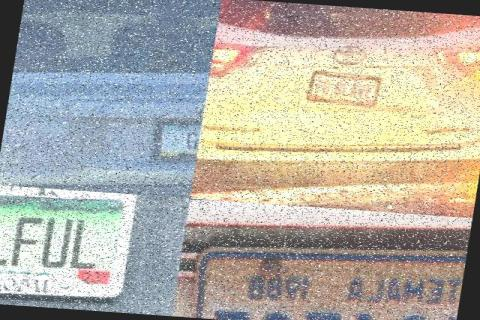LicensePlate: (0, 184, 135, 300), (203, 288, 459, 320), (304, 70, 381, 110), (151, 121, 200, 160)
